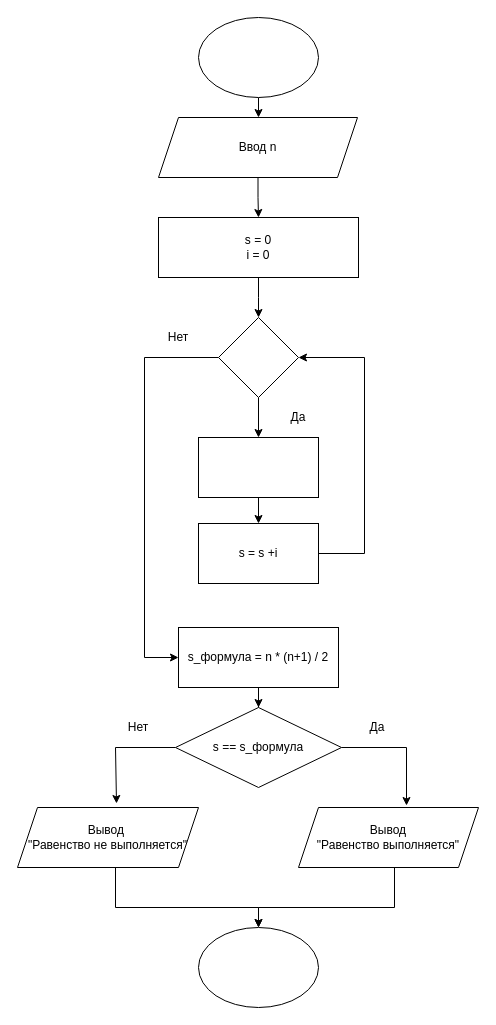
Image size: 496x1025. Some labels were removed from this diagram. Each missing label, with the centre of its shape:
"i = i +1" belongs at point 258,467.
"i<n" belongs at point 258,357.
"Конец" belongs at point 258,967.
"Начало" belongs at point 258,57.
